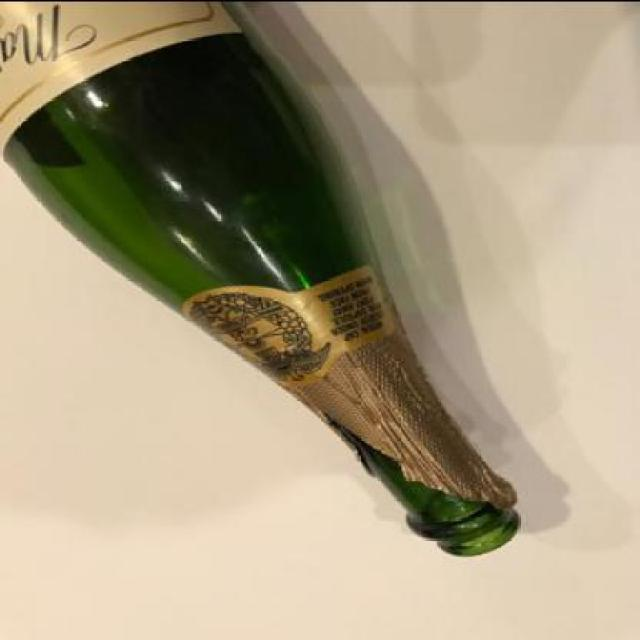glass: (0, 1, 520, 558)
